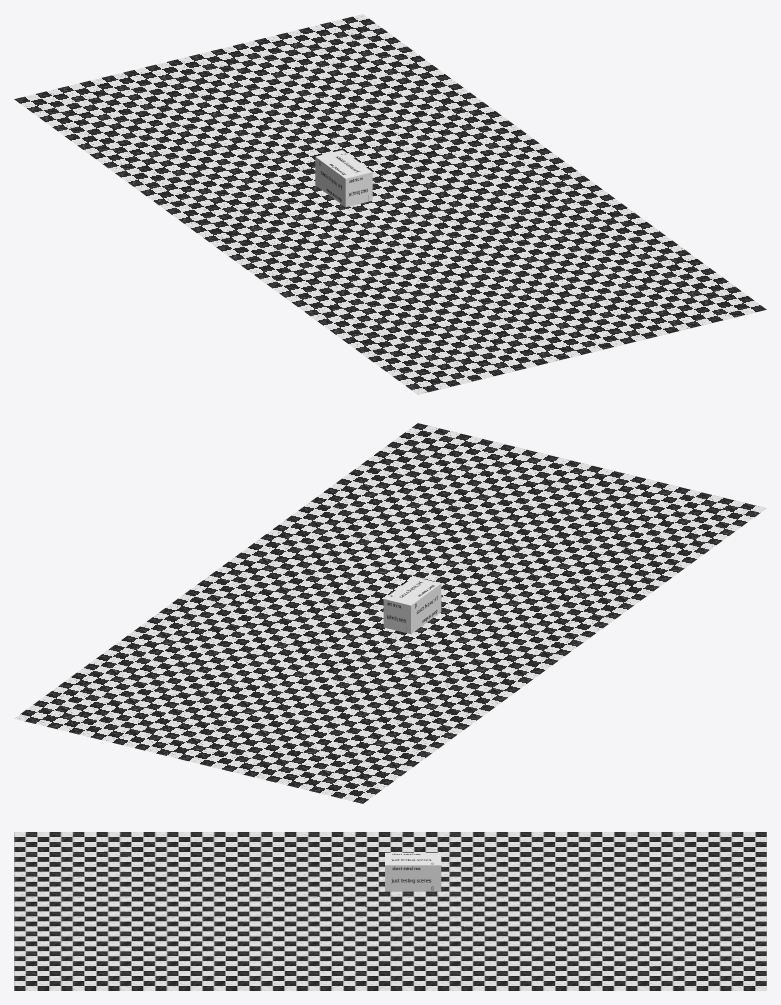
Rendered from intro.glb.
The picture shows the model from 3 angles, top to bottom: view 1: azimuth 30°, elevation 25°; view 2: azimuth 150°, elevation 25°; view 3: azimuth 270°, elevation 25°; orthographic projection. The views are drawn at different scales.
Visible parts, largest first — view 1: Sign; view 2: Sign; view 3: Sign.
Boxes of the visible parts, left/top/right/bottom form: Sign: left=14, top=14, right=766, bottom=394; Sign: left=14, top=423, right=766, bottom=803; Sign: left=14, top=832, right=766, bottom=990.
Size of the model in its own units: 18.63 by 2.02 by 37.35.
2 materials, 2 textured.
